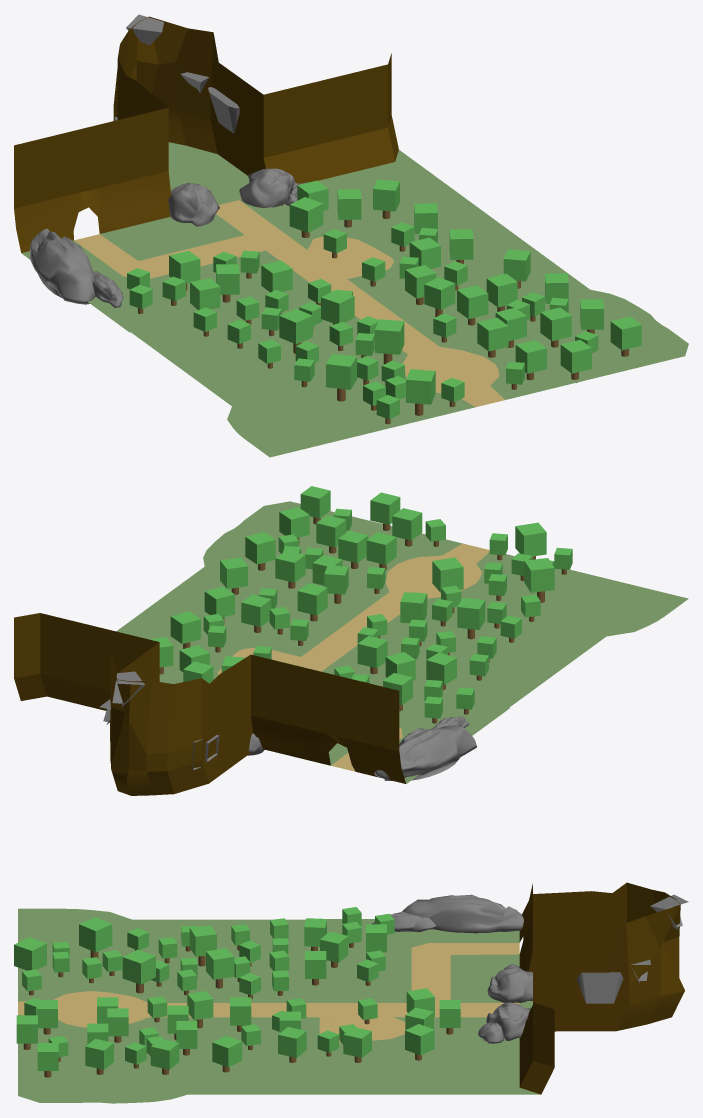
File: mapppp trial run.fbx
3 views of the same model, one above another, from view 1: azimuth 30°, elevation 25°; view 2: azimuth 150°, elevation 25°; view 3: azimuth 270°, elevation 25° (orthographic). The views are drawn at different scales.
Visible parts, largest first — view 1: pCube80; view 2: pCube80; view 3: pCube80.
Boxes of the visible parts, x1=… form: pCube80: x1=14, y1=14, x2=688, y2=457; pCube80: x1=14, y1=486, x2=688, y2=795; pCube80: x1=14, y1=882, x2=688, y2=1103.
Size of the model in its own units: 22.46 by 6.72 by 32.89.
